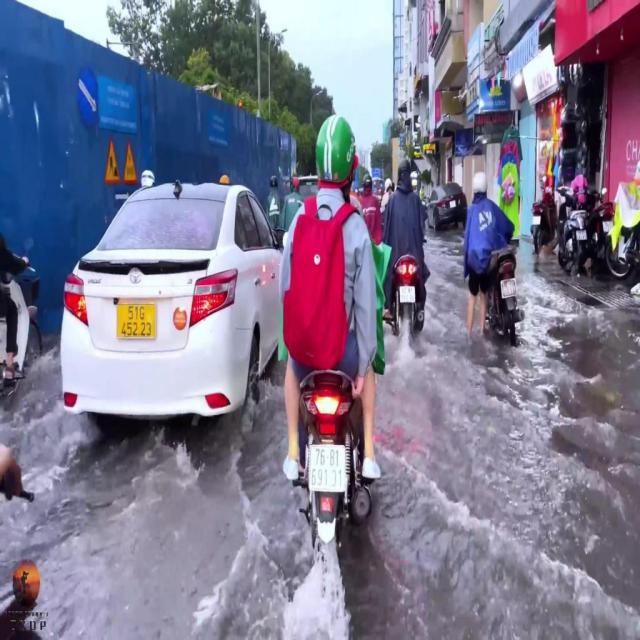cong_truong: (106, 138, 120, 180)
di_cham: (124, 140, 138, 182)
huong_phai_di_vuot_chuong_ngai_vat_phai: (76, 64, 100, 125)
khac: (115, 191, 129, 203)
